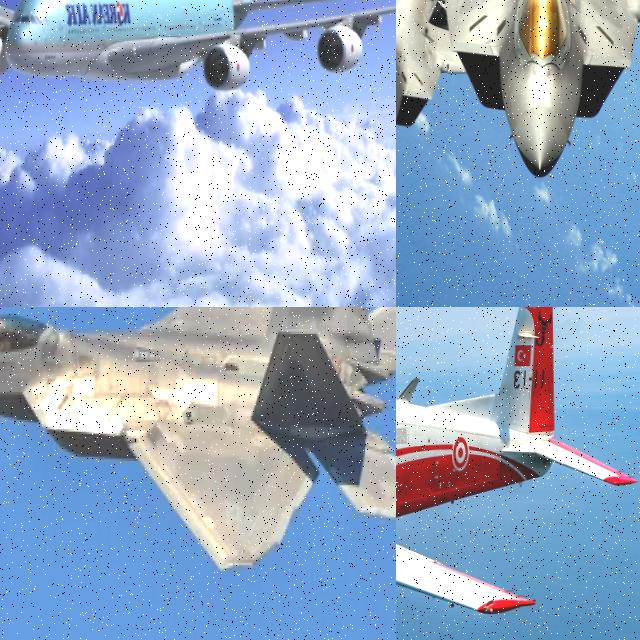A380: (0, 0, 396, 97)
F22: (0, 307, 396, 576), (396, 0, 640, 167), (396, 0, 511, 160)
KT-1: (396, 307, 639, 626)
